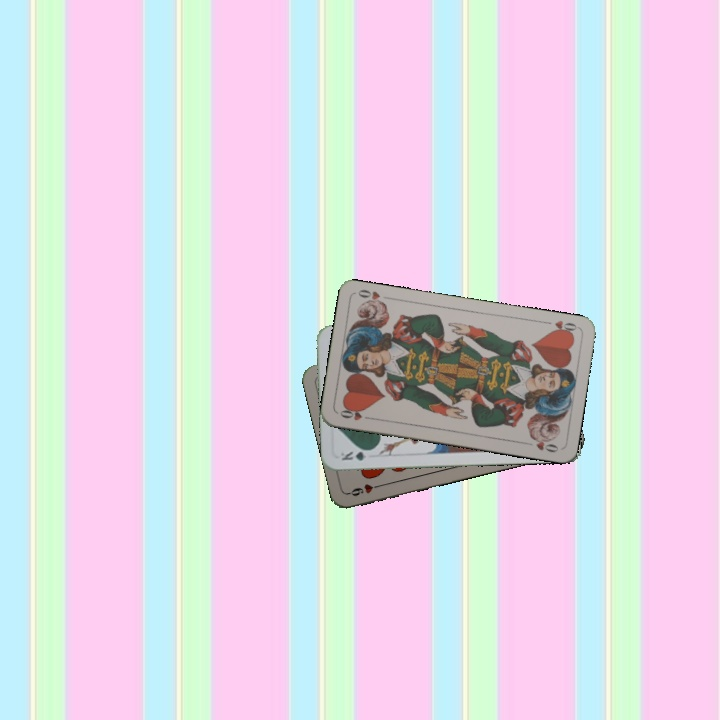GK: (337, 446, 376, 463)
H9: (345, 480, 385, 499)
HO: (540, 316, 580, 338), (336, 404, 375, 423)
